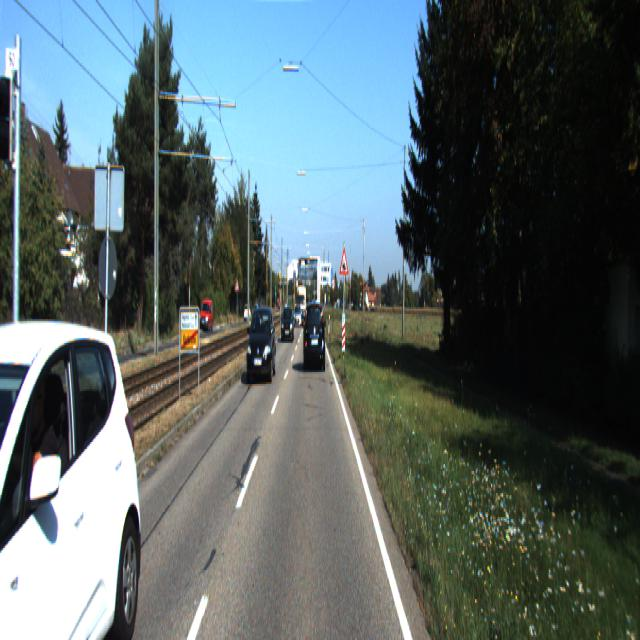Car: (0, 326, 156, 638), (247, 306, 277, 386), (304, 300, 326, 371), (281, 305, 295, 342), (200, 300, 214, 334)
